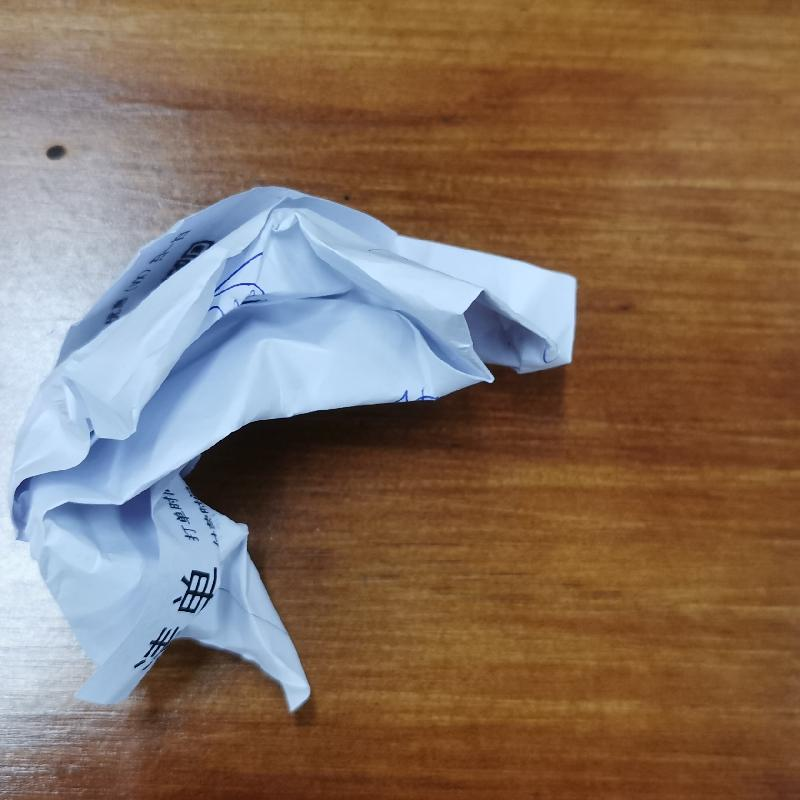spitball: (11, 181, 581, 717)
